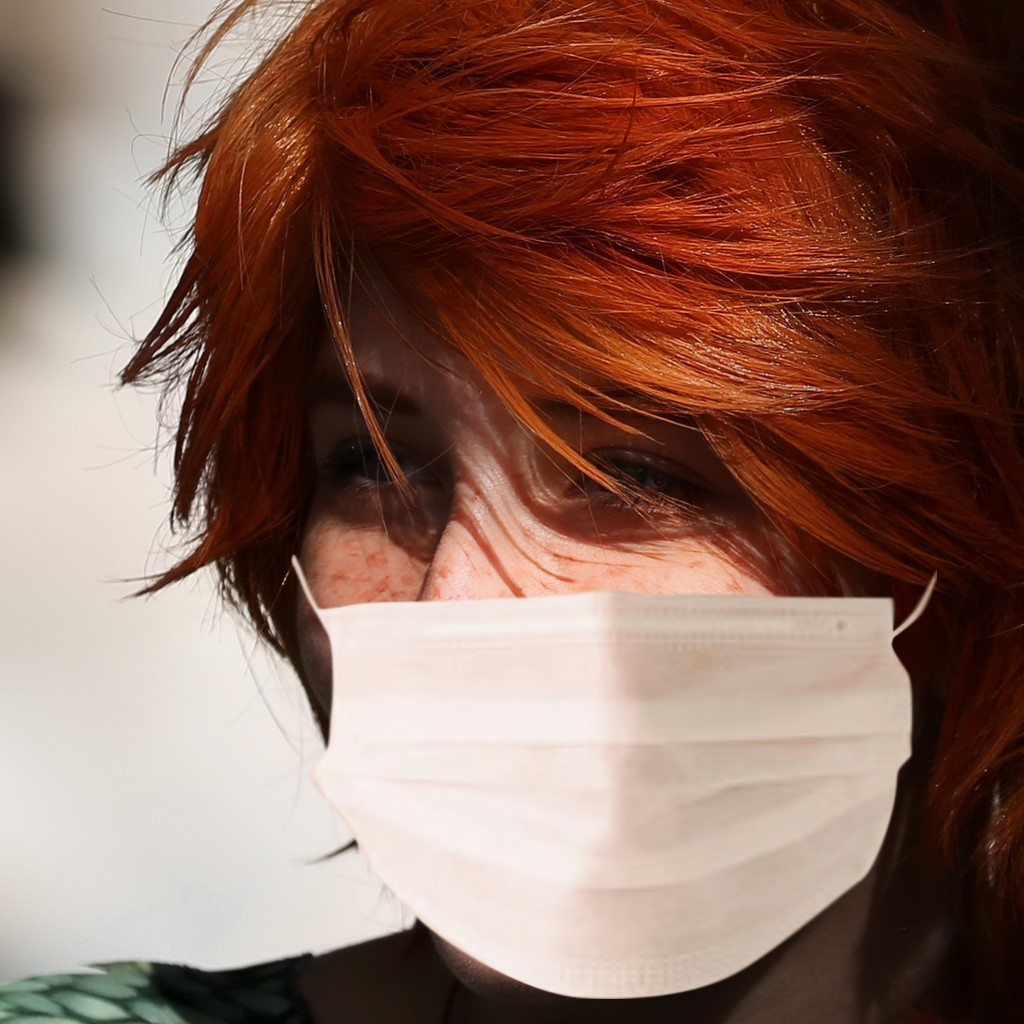con_mascara: (243, 131, 941, 1004)
